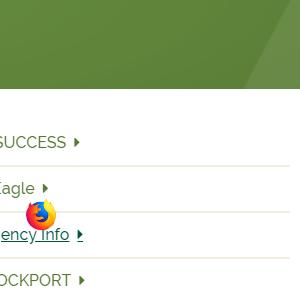firefox: (26, 198, 56, 231)
